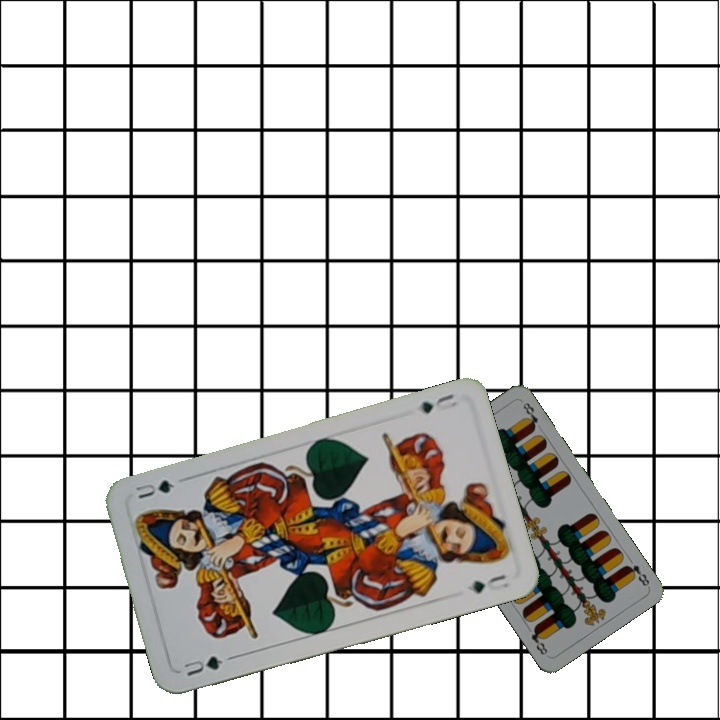E8: (621, 560, 652, 589)
GU: (180, 651, 226, 679), (415, 390, 460, 416)
